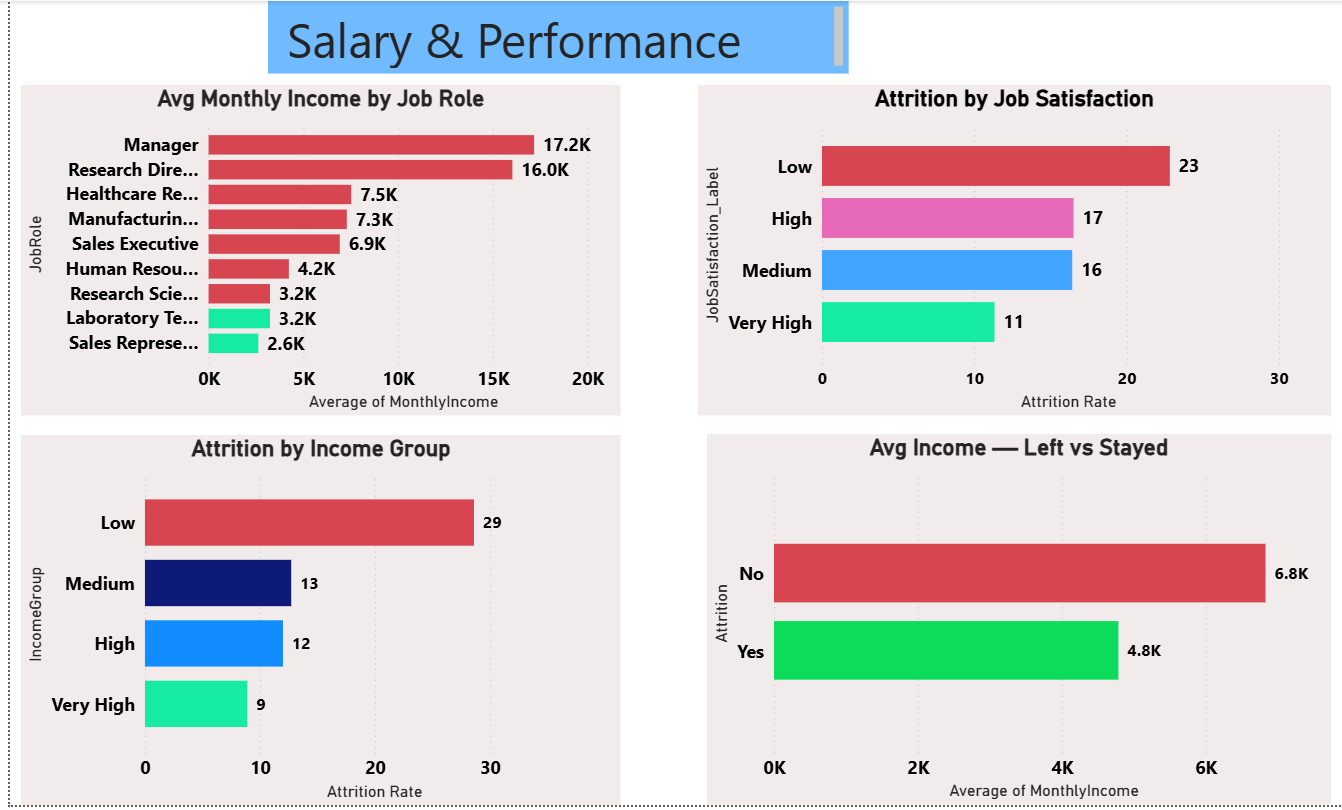

This screenshot's page, from the dashboard's own definition file:
{"tool":"powerbi","page":{"name":"Salary & Performance","canvas":[1280,720],"ordinal":3},"visuals":[{"type":"clusteredBarChart","title":"Avg Monthly Income by Job Role","fields":{"Category":["HR_Attrition_Cleanedfromsql.JobRole"],"Y":["Avg(HR_Attrition_Cleanedfromsql.MonthlyIncome)"]},"box":[9.8,75,537.3,296.3],"z":0},{"type":"clusteredBarChart","title":"Attrition by Job Satisfaction","fields":{"Category":["HR_Attrition_Cleanedfromsql.JobSatisfaction_Label"],"Y":["HR_Attrition_Cleanedfromsql.Attrition Rate"]},"box":[616,75,566.8,296.3],"z":1},{"type":"clusteredBarChart","title":"Attrition by Income Group","fields":{"Category":["HR_Attrition_Cleanedfromsql.IncomeGroup"],"Y":["HR_Attrition_Cleanedfromsql.Attrition Rate"]},"box":[9.8,388.5,537.3,332],"z":2},{"type":"clusteredBarChart","fields":{"Category":["HR_Attrition_Cleanedfromsql.Attrition"],"Y":["Sum(HR_Attrition_Cleanedfromsql.MonthlyIncome)"]},"box":[624.6,388.5,550.9,332],"z":3},{"type":"textbox","box":[231.2,0,520.1,65.2],"z":4}]}

Visuals, with their boxes on the page's 1280x720 design canvas (x1, y1, x2, y2). These are canvas units, not pixel positions in the 1342x810 screenshot, which may show the page scaled, cropped or inside an application window:
"Avg Monthly Income by Job Role" clusteredBarChart: [10, 75, 547, 371]
"Attrition by Job Satisfaction" clusteredBarChart: [616, 75, 1183, 371]
"Attrition by Income Group" clusteredBarChart: [10, 388, 547, 720]
clusteredBarChart - HR_Attrition_Cleanedfromsql.Attrition x Sum(HR_Attrition_Cleanedfromsql.MonthlyIncome): [625, 388, 1176, 720]
textbox: [231, 0, 751, 65]
